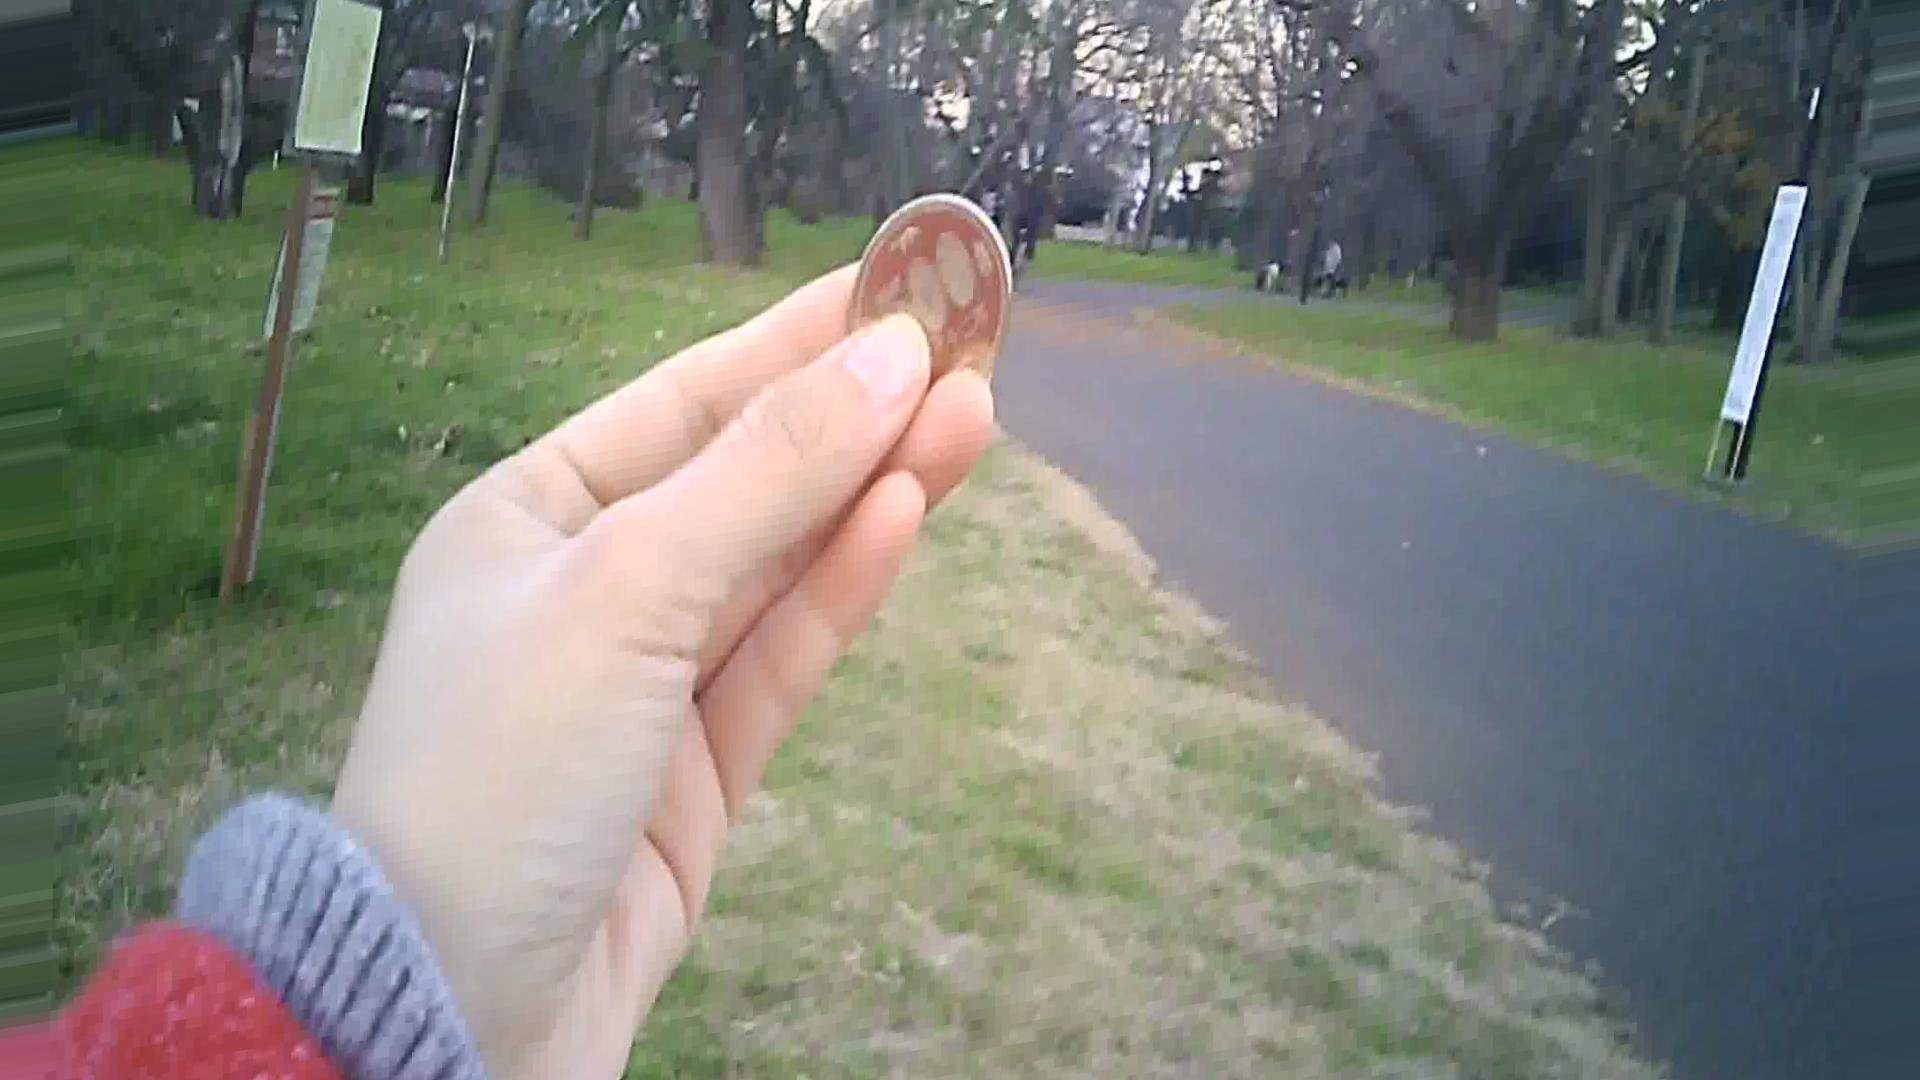500 Yen: (835, 171, 1029, 423)
